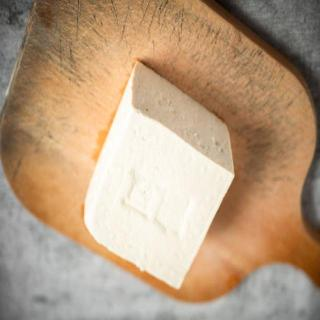Tahu: (87, 65, 241, 295)
